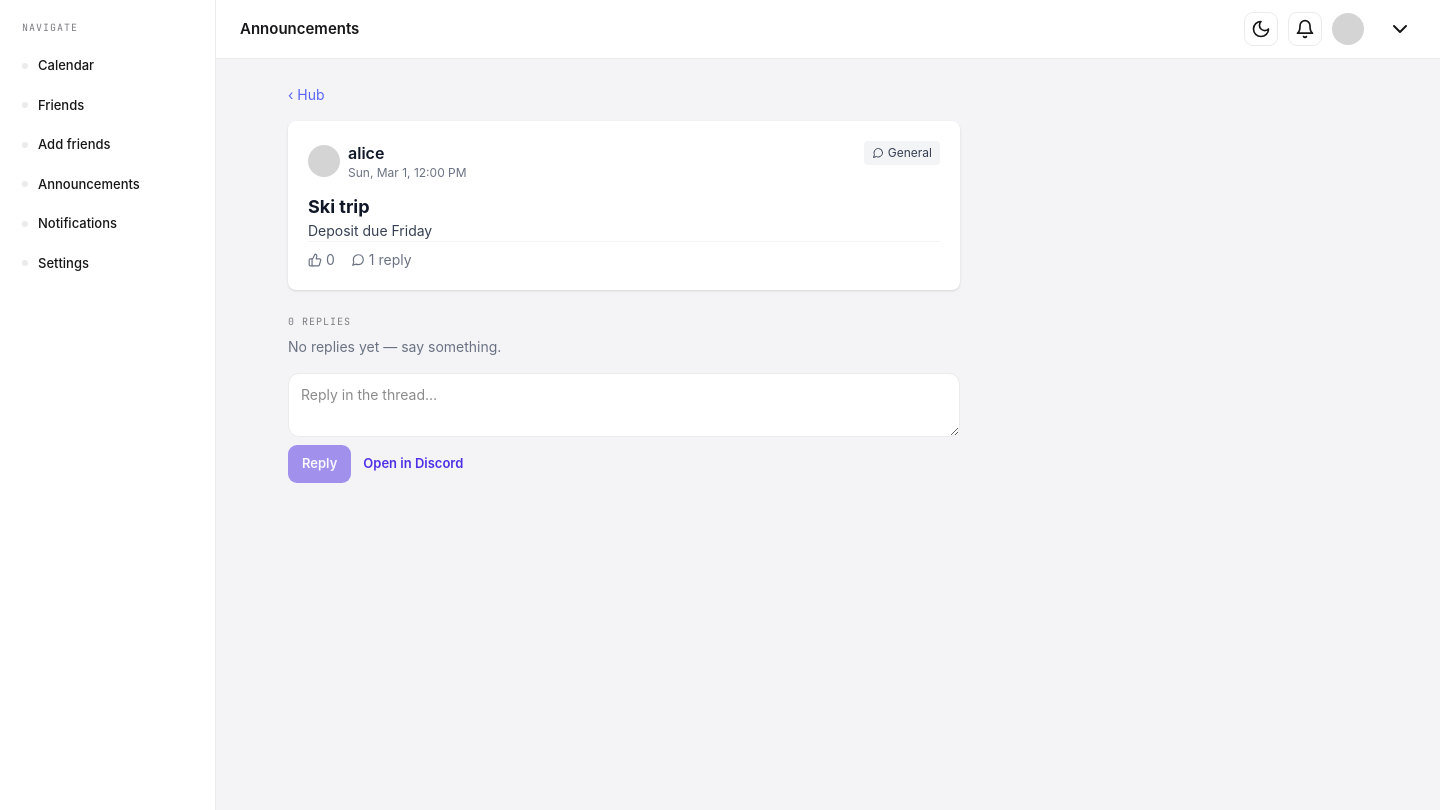
announcement thread page › keeps the draft when posting fails
Expected: the heading "Ski trip" is shown, x1=308 y1=196 x2=370 y2=217
In the text box labelled "Reply": [624, 405] box x1=288 y1=373 x2=960 y2=437, type "worth keeping"
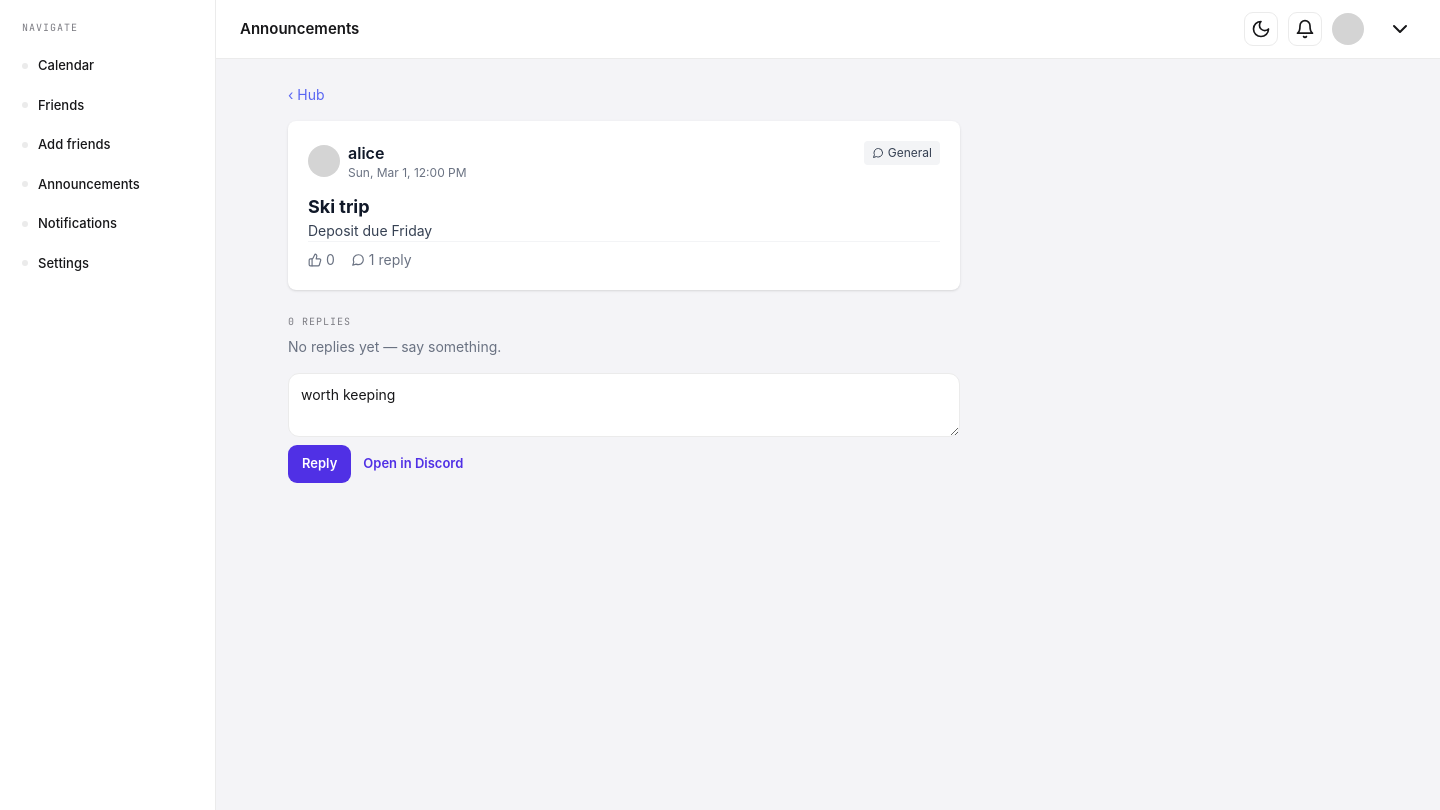
Click the button "Reply": [320, 464] box x1=288 y1=445 x2=351 y2=482
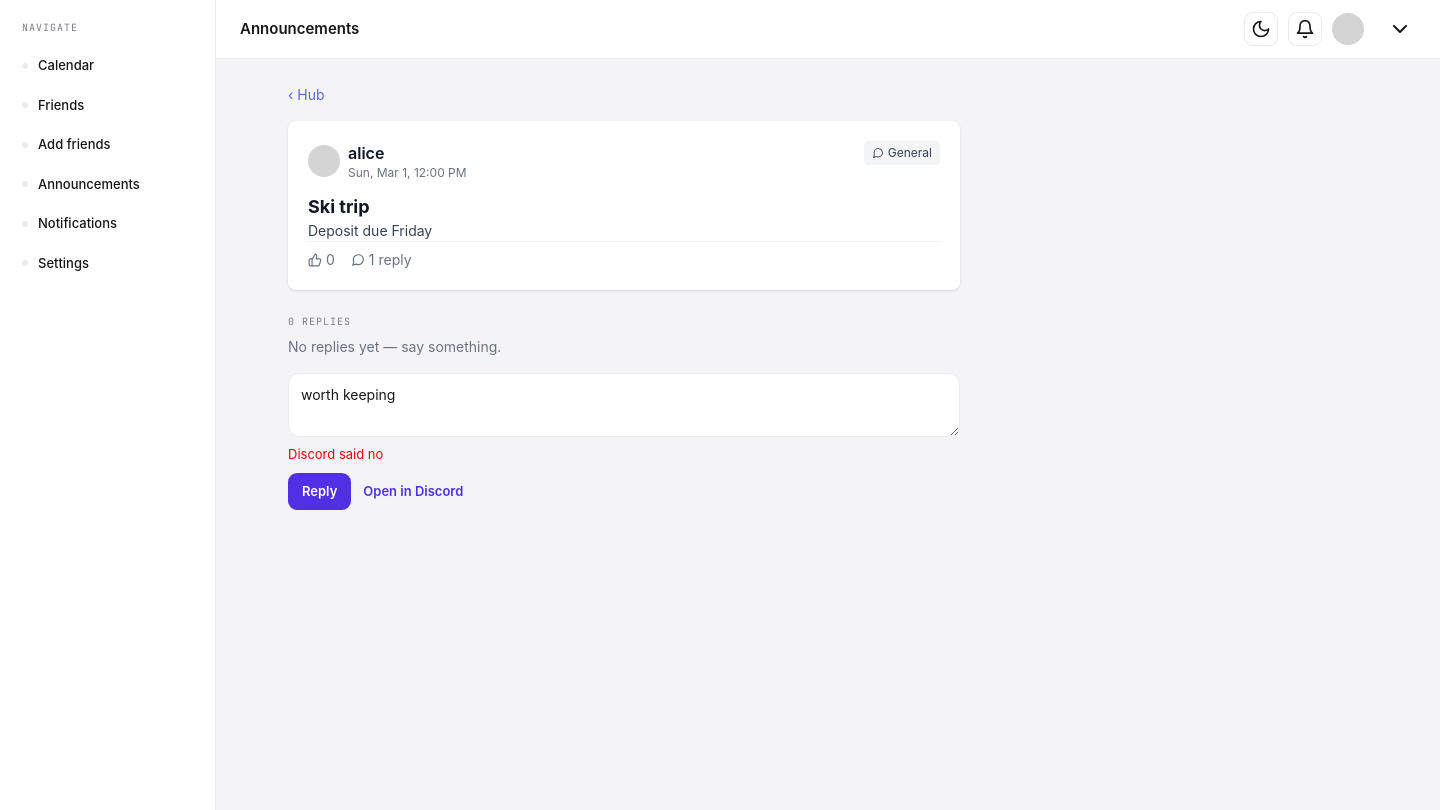
Now the message reads "Discord said no", box x1=288 y1=446 x2=383 y2=462
